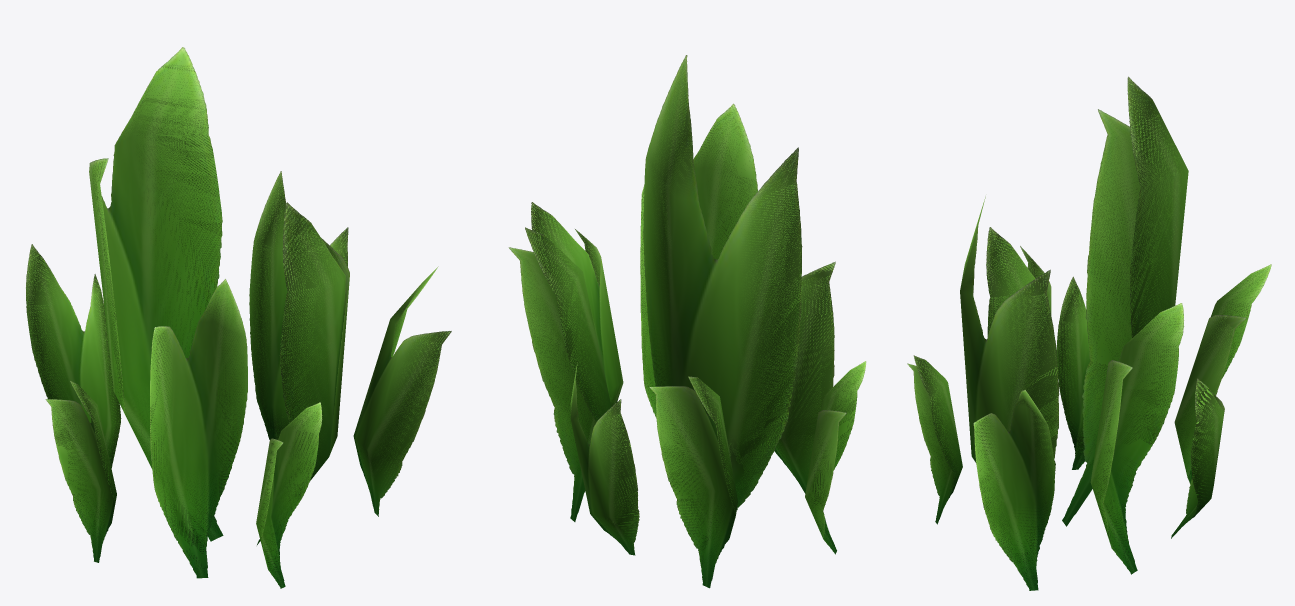
Rendered from oi_grassBatch_01.fbx.
3 views of the same model, side by side, from view 1: azimuth 30°, elevation 25°; view 2: azimuth 150°, elevation 25°; view 3: azimuth 270°, elevation 25° (orthographic). The views are drawn at different scales.
Visible parts, largest first — view 1: grassBatch_01; view 2: grassBatch_01; view 3: grassBatch_01.
Boxes of the visible parts, <box> form: grassBatch_01: <box>26,47,451,588</box>; grassBatch_01: <box>508,55,866,588</box>; grassBatch_01: <box>907,76,1271,590</box>.
Size of the model in its own units: 51.56 by 68.5 by 48.92.
Materials: 1 (1 with a texture image).
